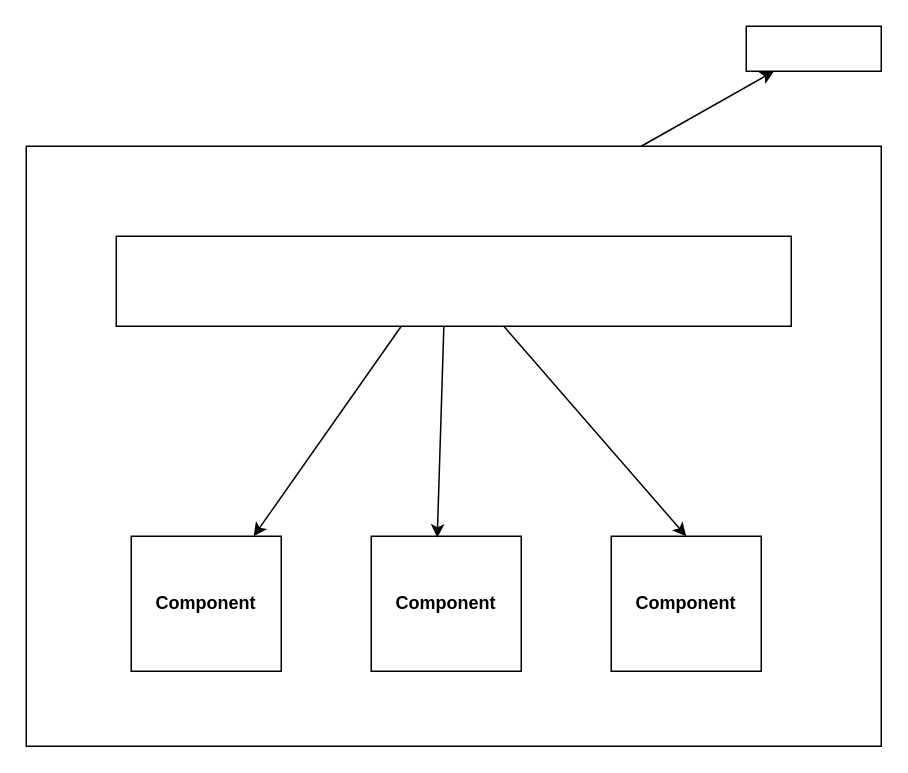
Some shapes in this 908 by 773 pixel diagram are drawn without their labels. The shapes that lost their labels are listed below. From the top down, each one's centre as x and y in pixels, then its label:
At [813,48]: "App".
At [453,280]: "Context".
